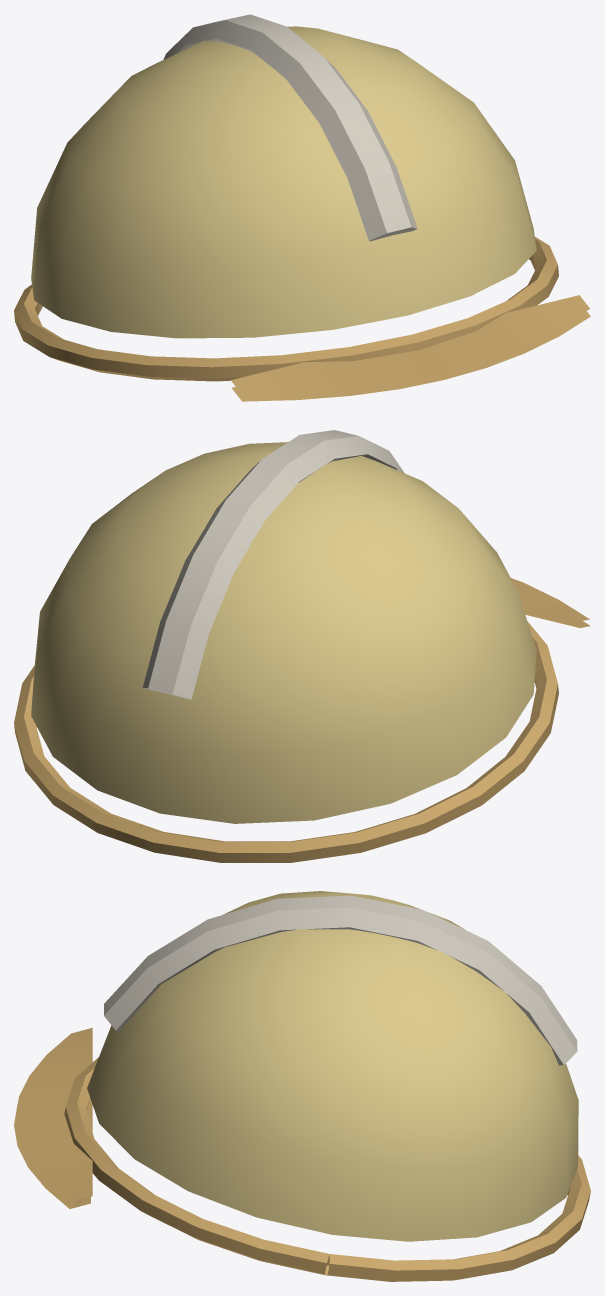
File: item_helmet.glb
3 renders of one model, top to bottom at view 1: azimuth 30°, elevation 25°; view 2: azimuth 150°, elevation 25°; view 3: azimuth 270°, elevation 25°, orthographic.
Visible parts, largest first — view 1: helmet; view 2: helmet; view 3: helmet.
Boxes of the visible parts, x1,y1,x2,y2 form: helmet: (14,14,590,401); helmet: (14,430,590,862); helmet: (14,891,590,1281).
Size of the model in its own units: 0.5447 by 0.336 by 0.5786.
